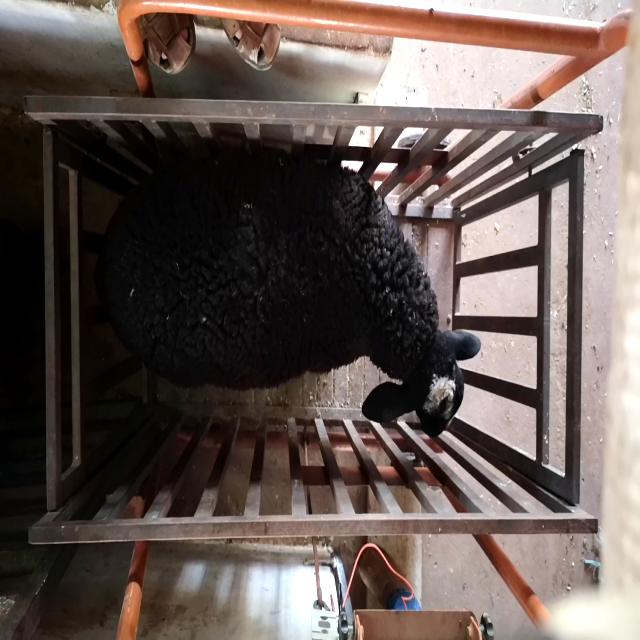sheep: (93, 149, 481, 439)
